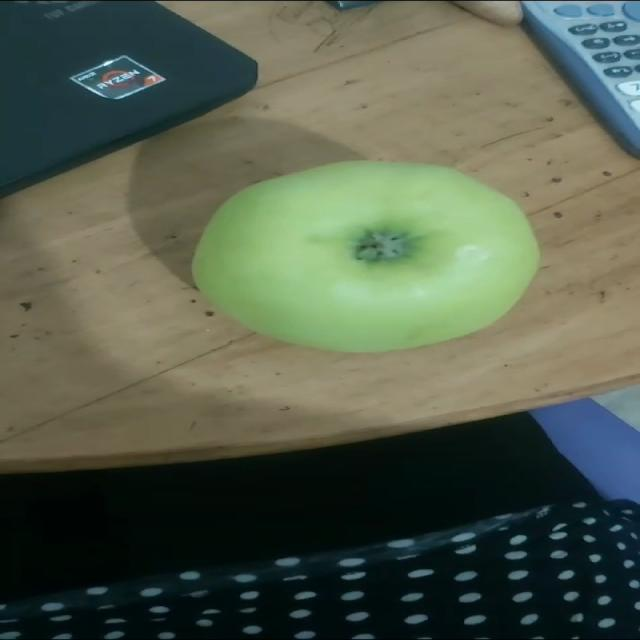50-_ripeness: (188, 159, 537, 354)
